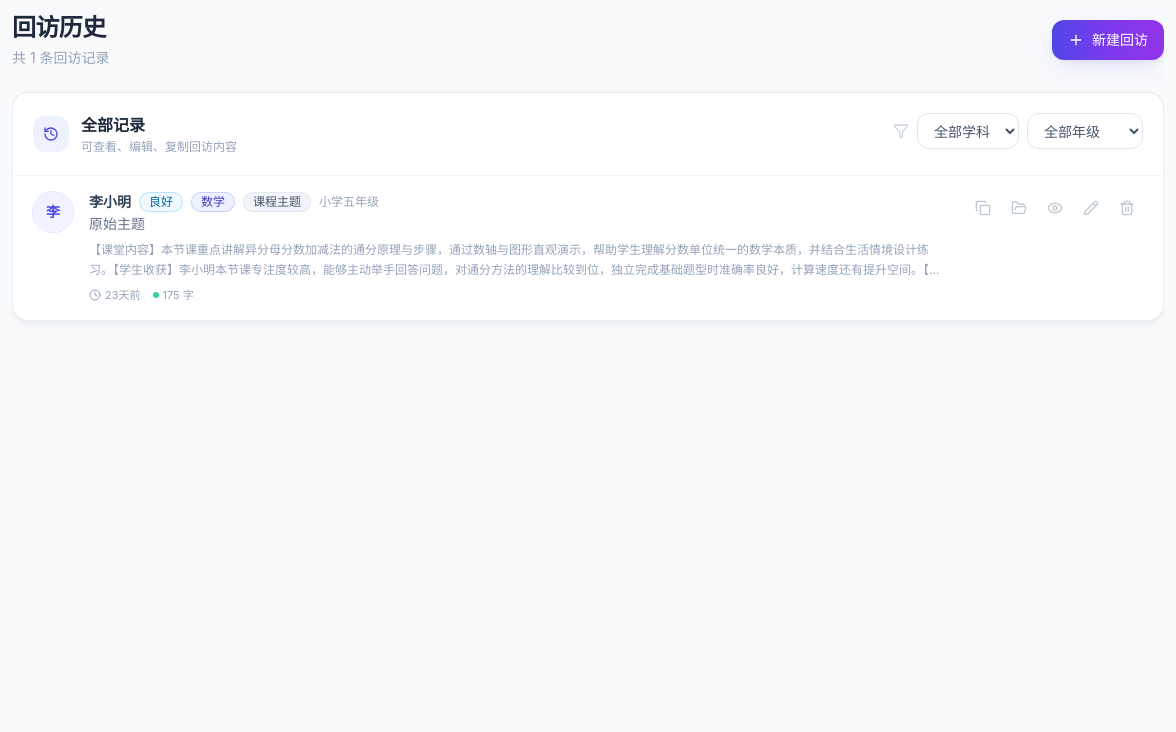
Scenario: 回访历史 · 编辑 › 打开编辑弹窗并预填课程主题与内容
Expected: the text "原始主题" is shown, [89,215,145,232]
Click the button titled "编辑". click: (1091, 208)
box: [1075,192,1107,224]
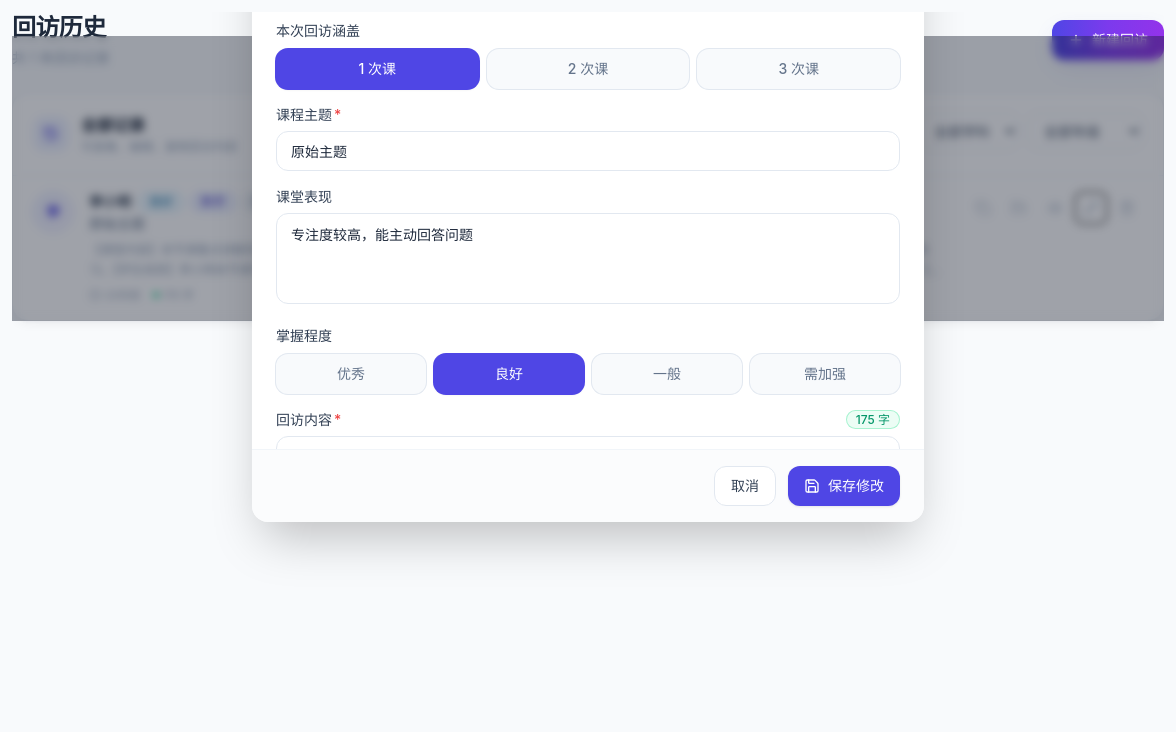
Result: the field labelled "课程主题*" holds "原始主题" at [276,131,900,171]
